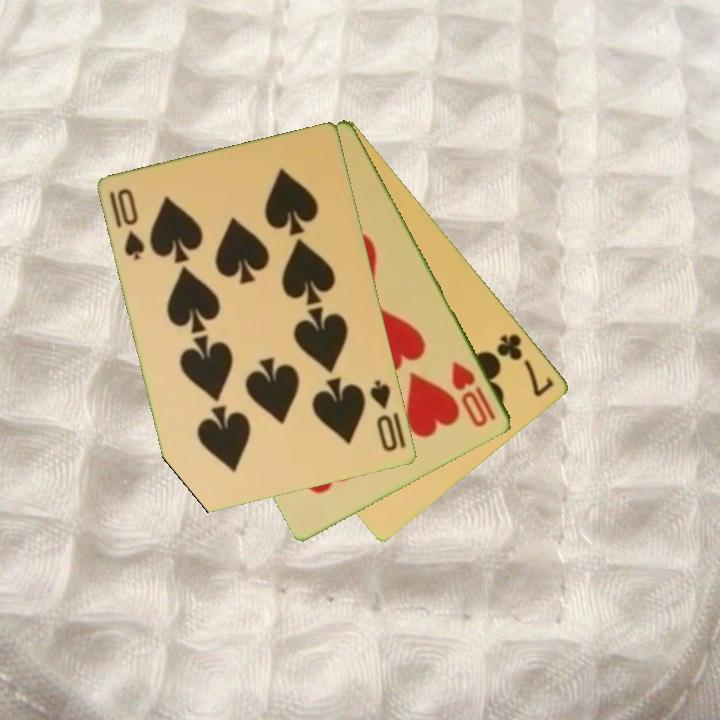10h: (448, 357, 500, 430)
10s: (106, 185, 148, 264), (367, 377, 401, 455)
7c: (493, 330, 558, 400)
